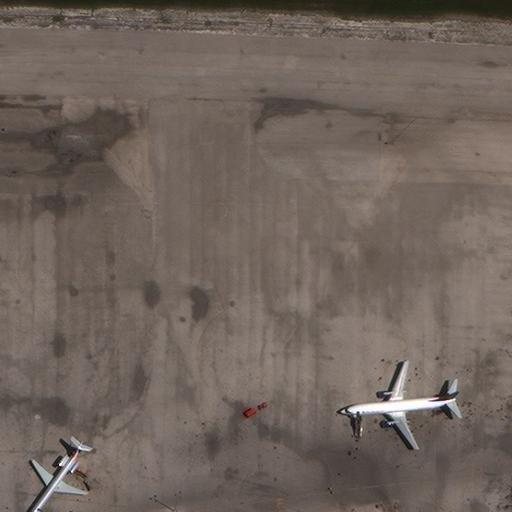Medium Civil Transport: (338, 363, 458, 449), (27, 439, 85, 512)
